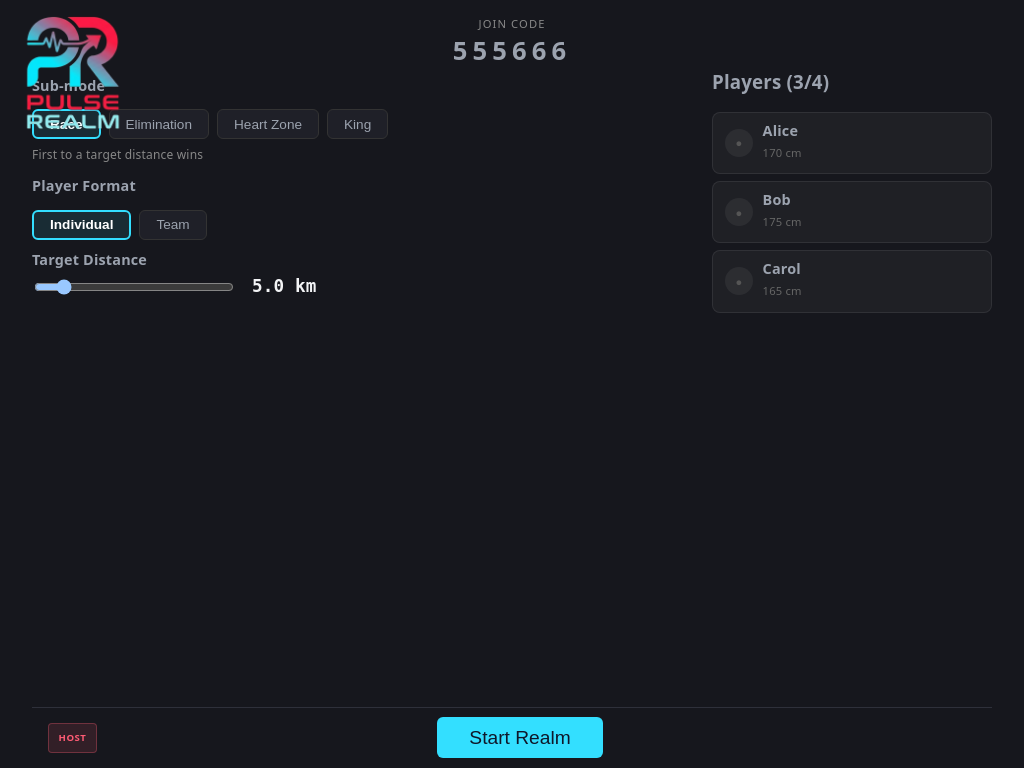
Scenario: CompetitionLobby › sub-mode selector › can switch to Elimination sub-mode
Click the button "Elimination". click: (159, 124)
box: [108,109,209,139]
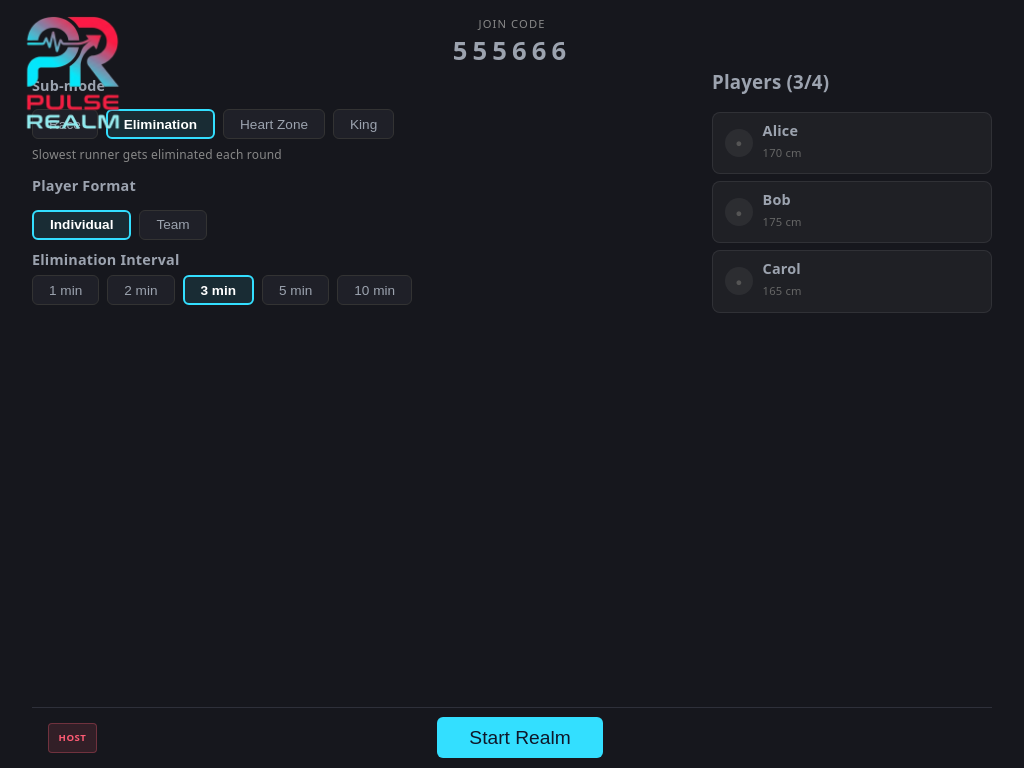
expect the heading "Elimination Interval" is shown: met, box [32,250,180,269]
